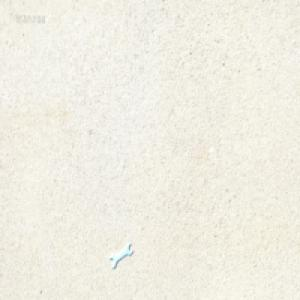Wrench: (109, 238, 132, 267)
